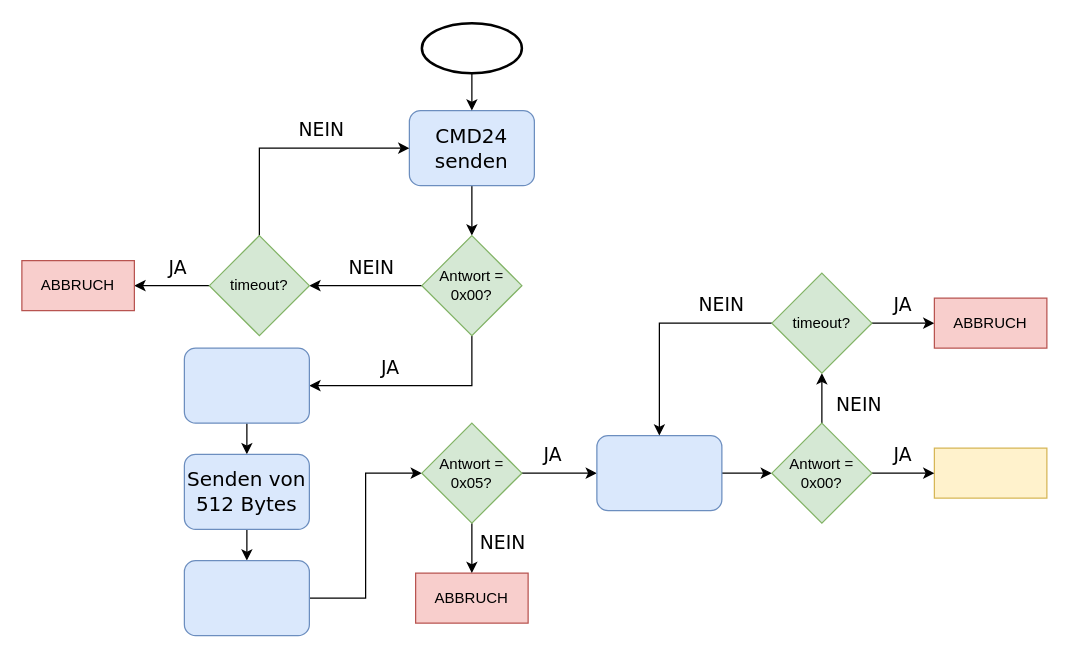
This 1069x658 diagram has some shape labels left out. The centre of each missing label's shape, as x and y in pixels:
"ERFOLG" belongs at pixel 990 472.
"Senden von 0xFE" belongs at pixel 246 385.
"Senden von 2 Byte CRC" belongs at pixel 246 597.
"START" belongs at pixel 471 47.
"Warten solange SD-Karte schreibt" belongs at pixel 659 472.
